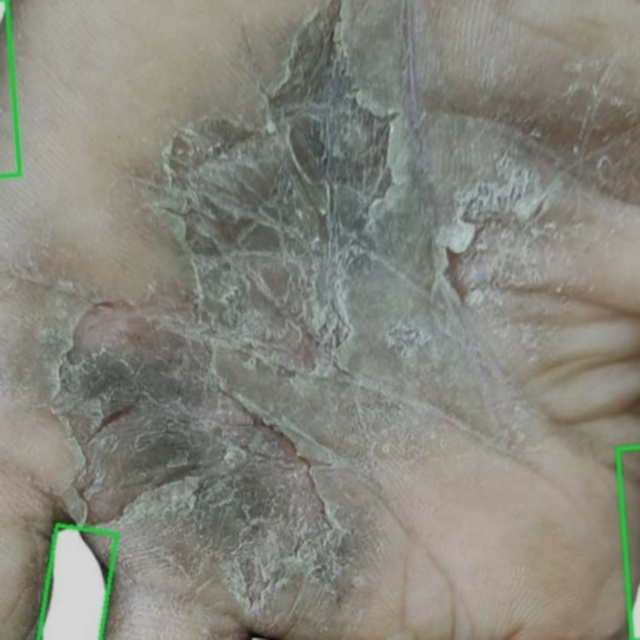Contact Dermatitis: (38, 525, 116, 639)
